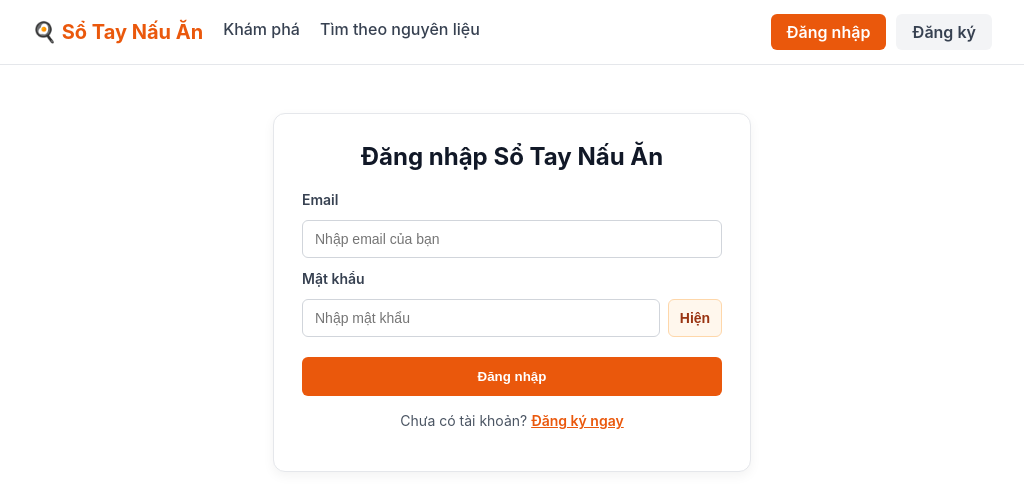
it: returns to the requested member page after successful login
The width and height of the screenshot is (1024, 489).
In the field labelled "Email": (512, 239) top-left (302, 220), bottom-right (722, 258), type "an@example.com"
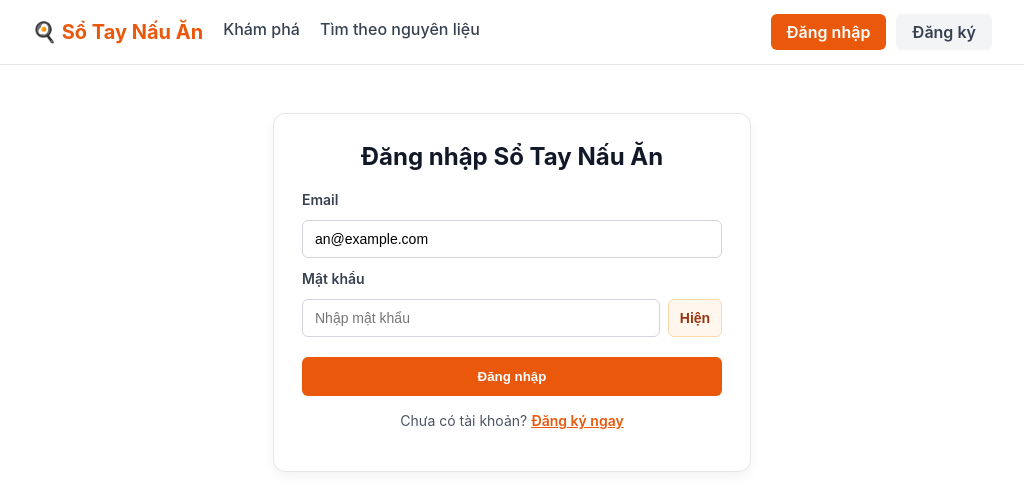
In the password field labelled "Mật khẩu": (481, 318) top-left (302, 299), bottom-right (660, 337), type "TestPassword123"
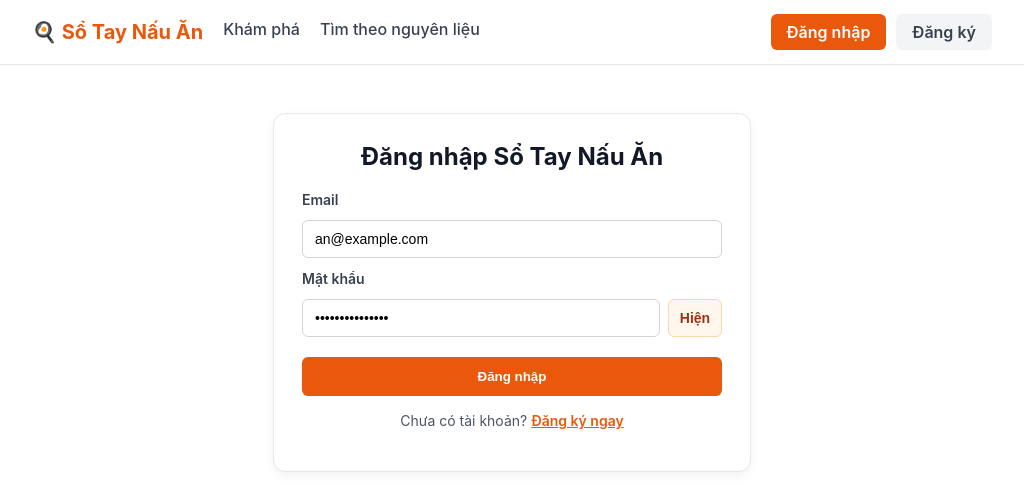
Click the button "Đăng nhập": (512, 376) top-left (302, 357), bottom-right (722, 396)
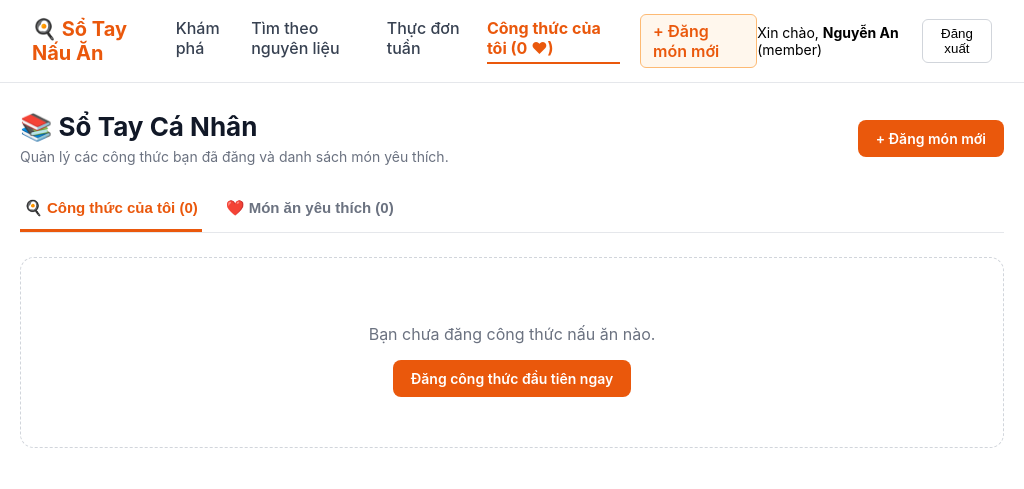
Expected: the heading "📚 Sổ Tay Cá Nhân" is shown, top-left (20, 111), bottom-right (257, 142)
